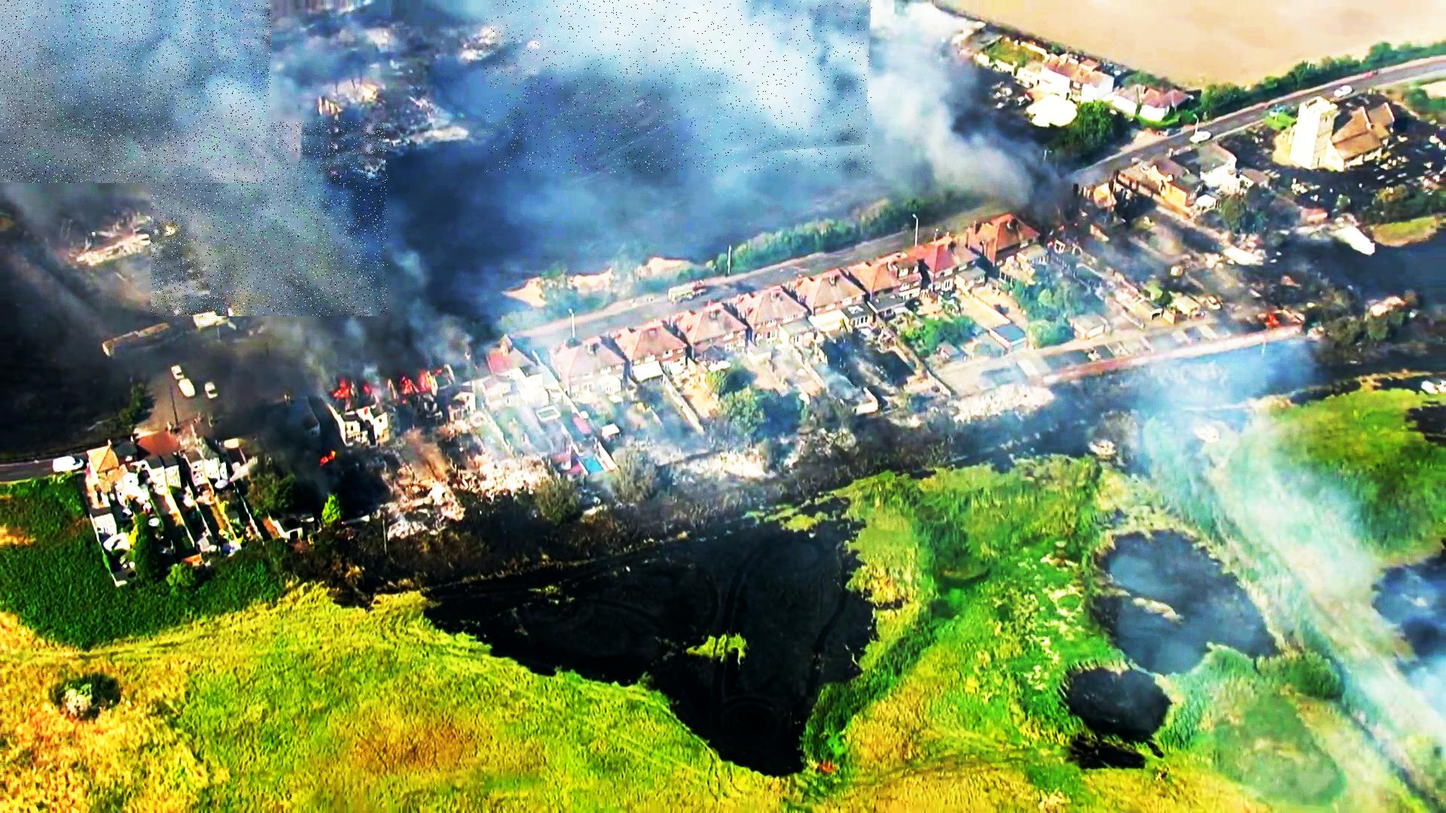smoke: (486, 0, 872, 173), (0, 0, 271, 183), (151, 121, 388, 316)
